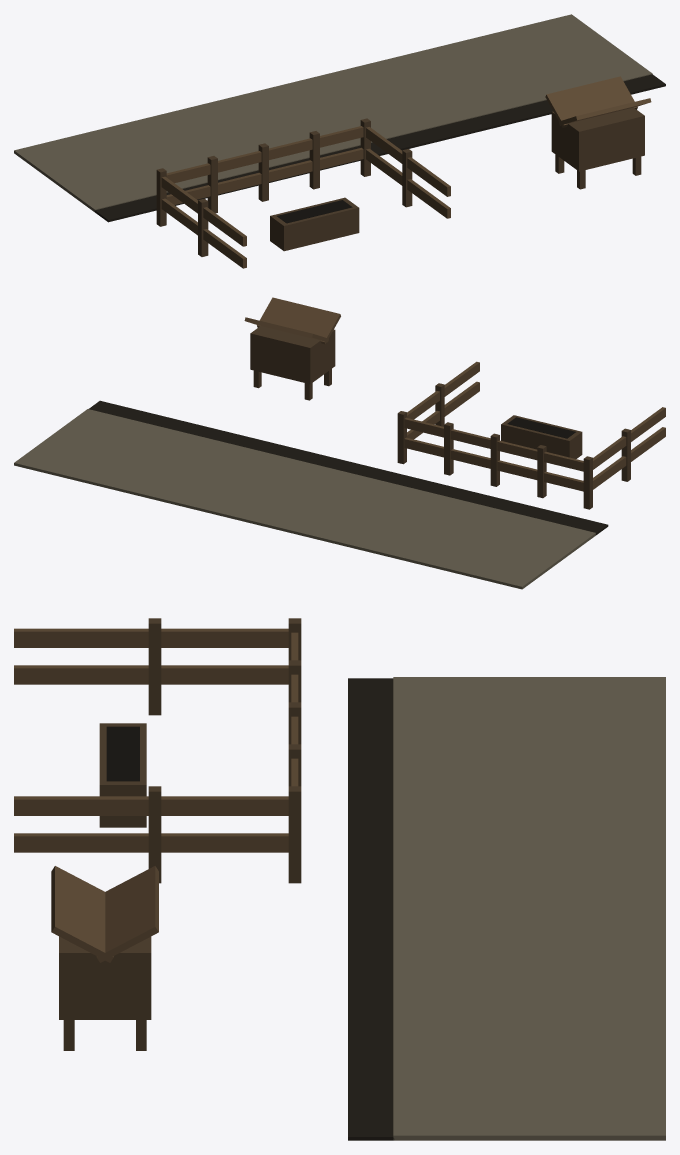
File: DressingPens.fbx
3 renders of one model, top to bottom at view 1: azimuth 30°, elevation 25°; view 2: azimuth 150°, elevation 25°; view 3: azimuth 270°, elevation 25°, orthographic. The views are drawn at different scales.
Parts seen in each view (by area): view 1: DressingPens; view 2: DressingPens; view 3: DressingPens.
Boxes of the visible parts, x1=… form: DressingPens: x1=14, y1=14, x2=665, y2=268; DressingPens: x1=14, y1=297, x2=665, y2=589; DressingPens: x1=14, y1=618, x2=665, y2=1140.
Bounding box in the file's own units: 1202 × 158 × 722.
Materials: 5 (5 with a texture image).
